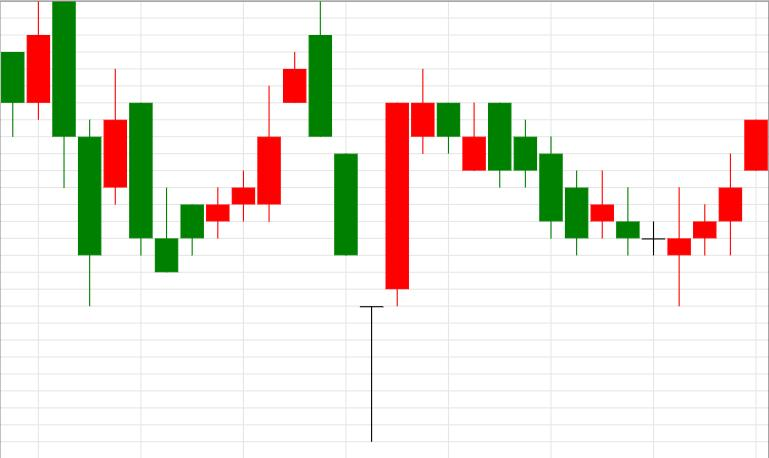bearish_engulfing_fall: (156, 2, 332, 272)
morning_star_rise: (284, 2, 409, 443)
